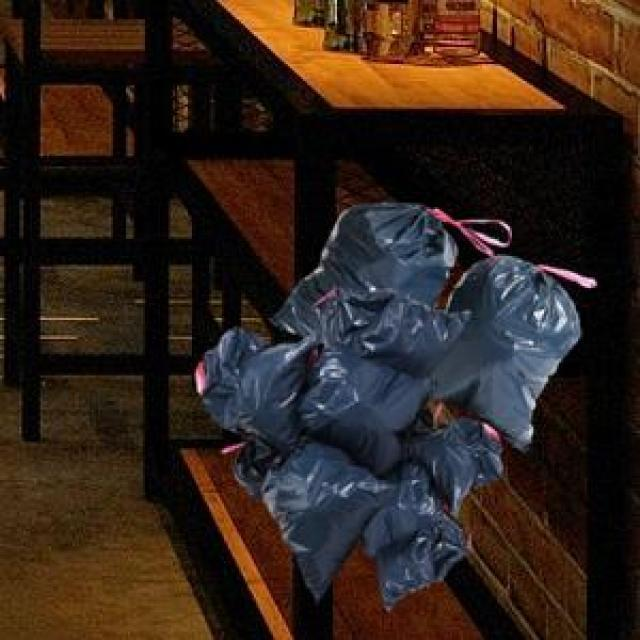waste: (198, 204, 591, 604)
